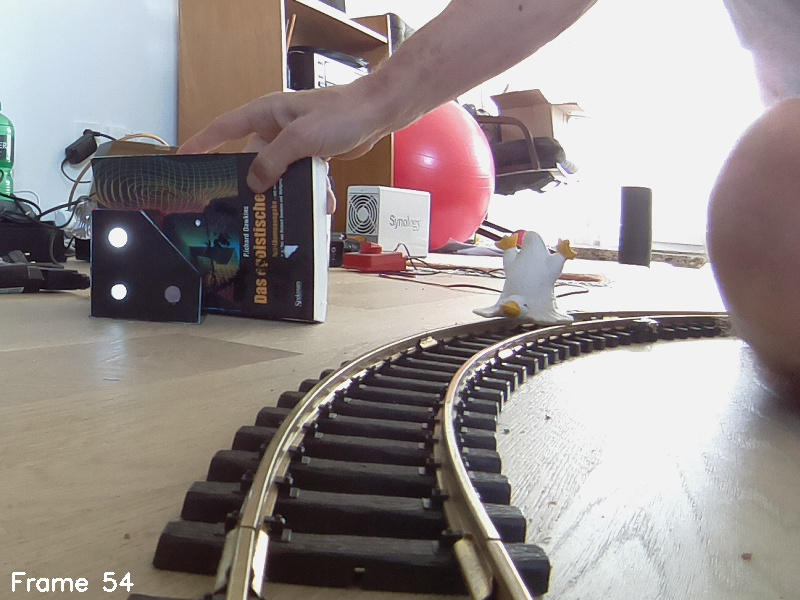Ente: (470, 230, 574, 332)
Fahrt: (91, 210, 202, 324)
